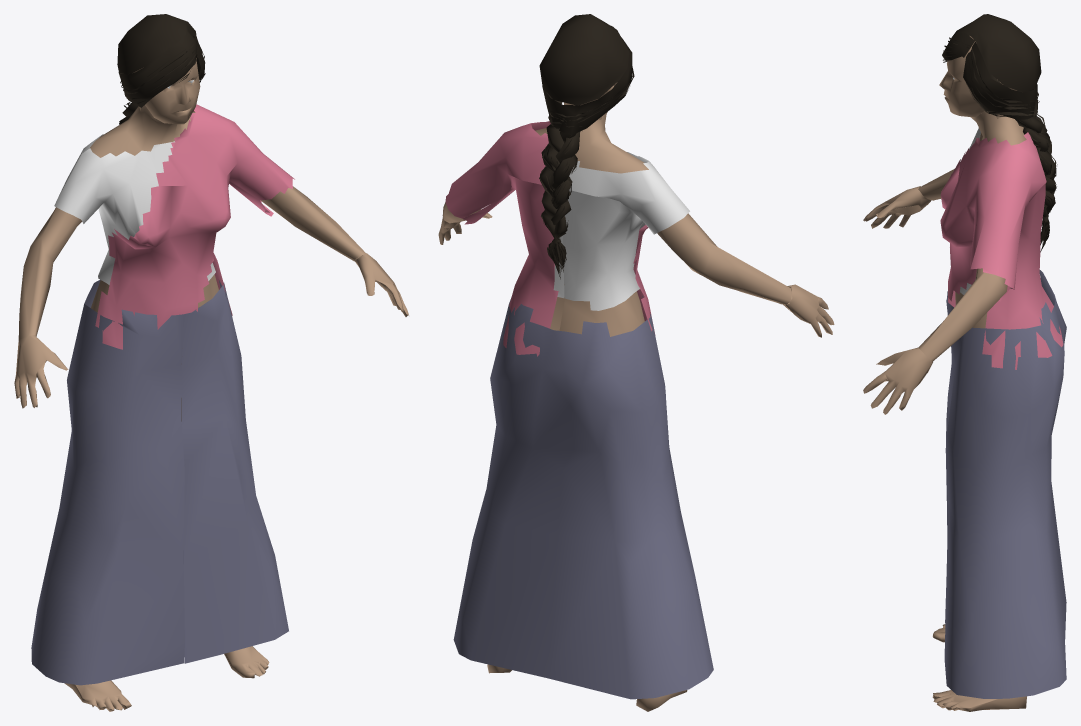
File: woman_06.glb
3 renders of one model, left to right at view 1: azimuth 30°, elevation 25°; view 2: azimuth 150°, elevation 25°; view 3: azimuth 270°, elevation 25°, orthographic.
Visible parts, largest first — view 1: crowd; view 2: crowd; view 3: crowd.
Boxes of the visible parts, left/top/right/bottom form: crowd: left=14, top=14, right=408, bottom=711; crowd: left=438, top=14, right=834, bottom=711; crowd: left=863, top=14, right=1066, bottom=711.
Bounding box in the file's own units: 0.9792 × 1.61 × 0.4527.
